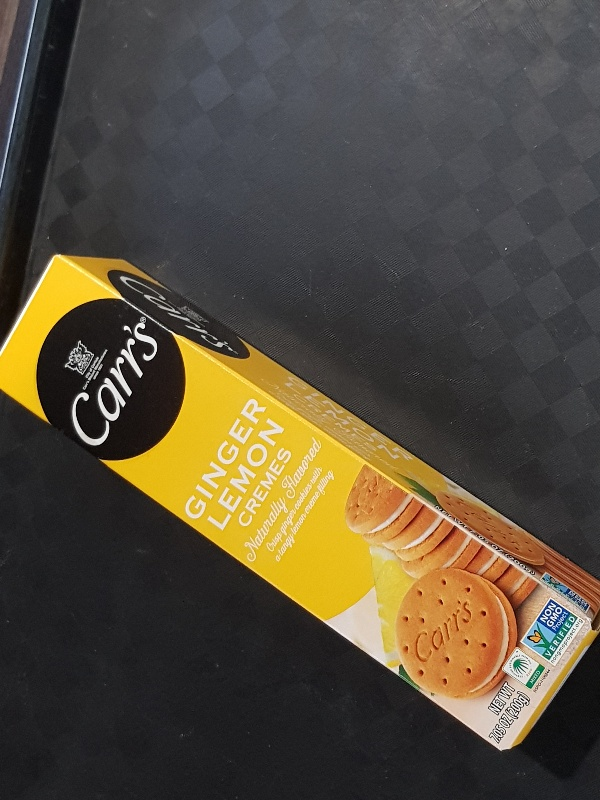Carr's Ginger Lemon Cremes: (2, 252, 600, 753)
